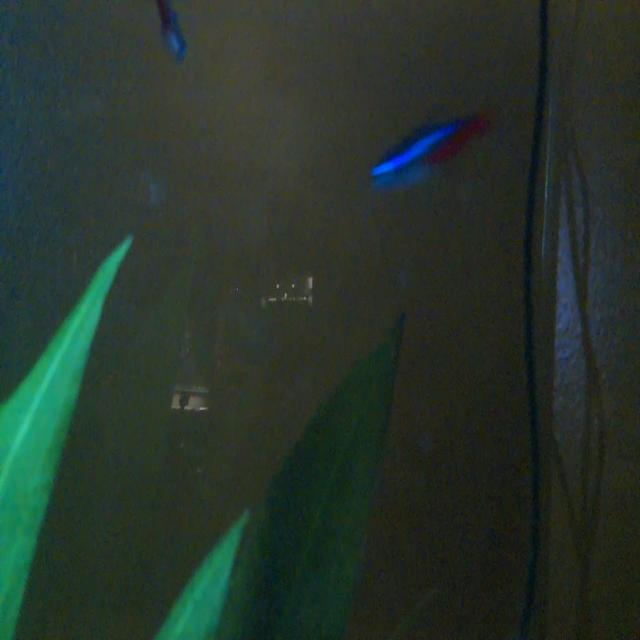fish: (344, 77, 496, 209)
